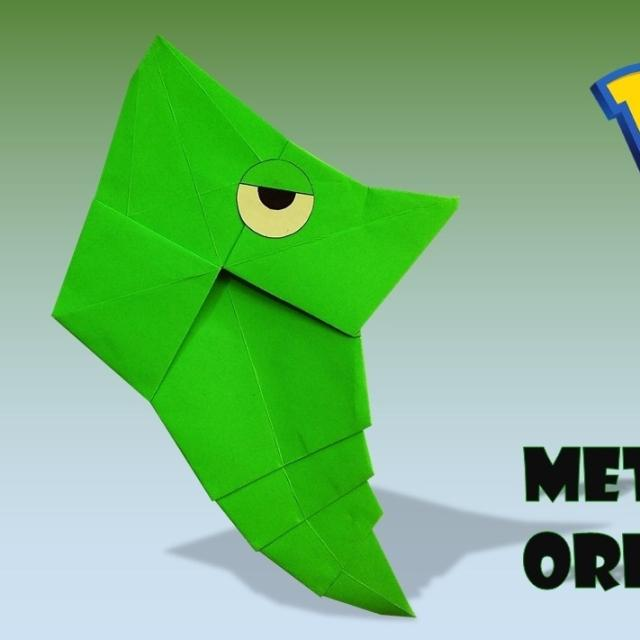Metapod: (92, 29, 428, 618)
